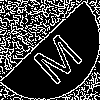M: (24, 25, 85, 87)
